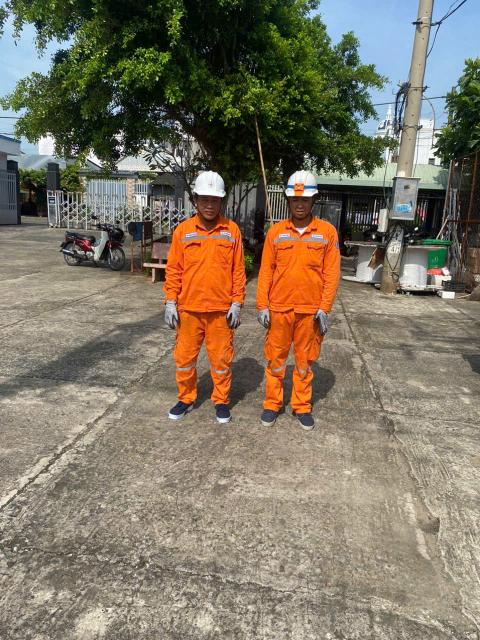gloves: (157, 295, 197, 335), (310, 304, 338, 340), (228, 297, 244, 340), (256, 302, 277, 332)
helmet: (278, 168, 325, 204), (191, 169, 229, 208)
shoes: (292, 401, 320, 440), (210, 399, 244, 431), (164, 394, 199, 424), (262, 401, 282, 433)
